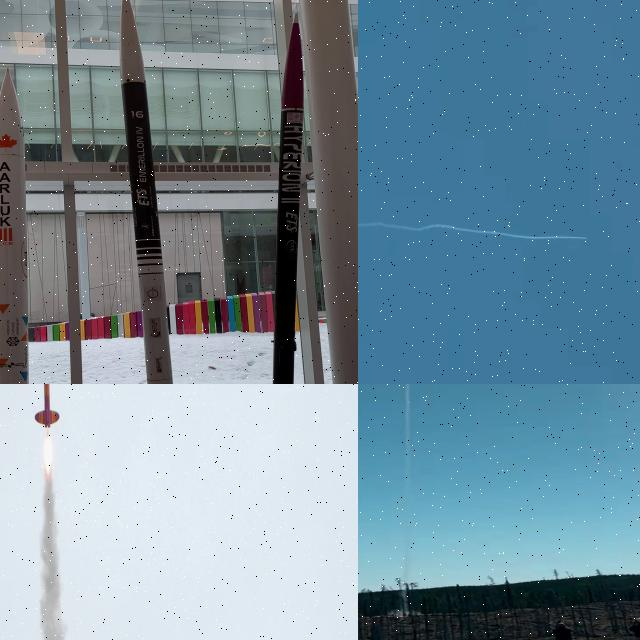Rocket: (119, 0, 173, 384), (271, 12, 304, 384), (0, 67, 29, 384), (33, 384, 59, 429), (584, 237, 586, 239)
